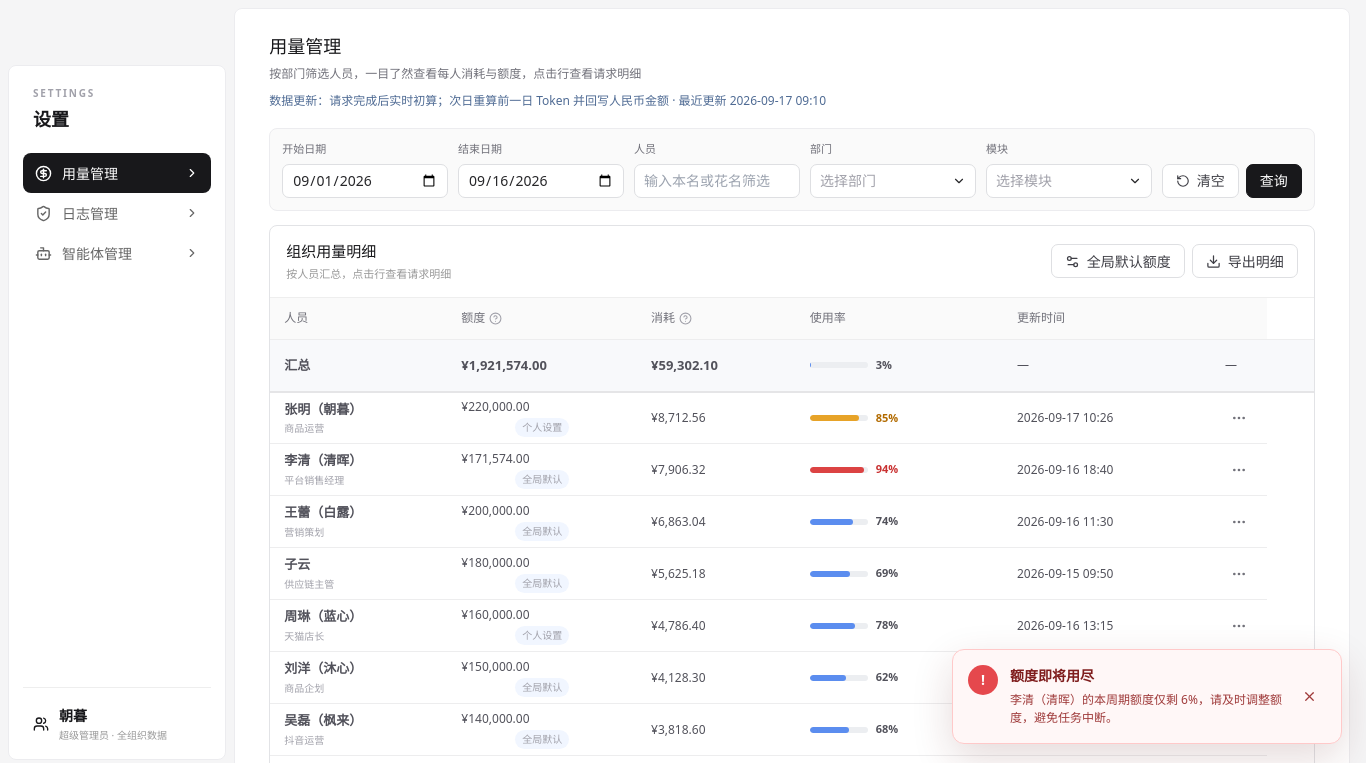
it: settings insights existing behavior contract › exports organization sessions with existing column order and format
This screenshot has width=1366, height=763.
What coordinates should you click on to do the following:
click the button with aria-label "导出用量明细"
I would click on:
 (1245, 261)
Its box is [1192,244,1298,278].
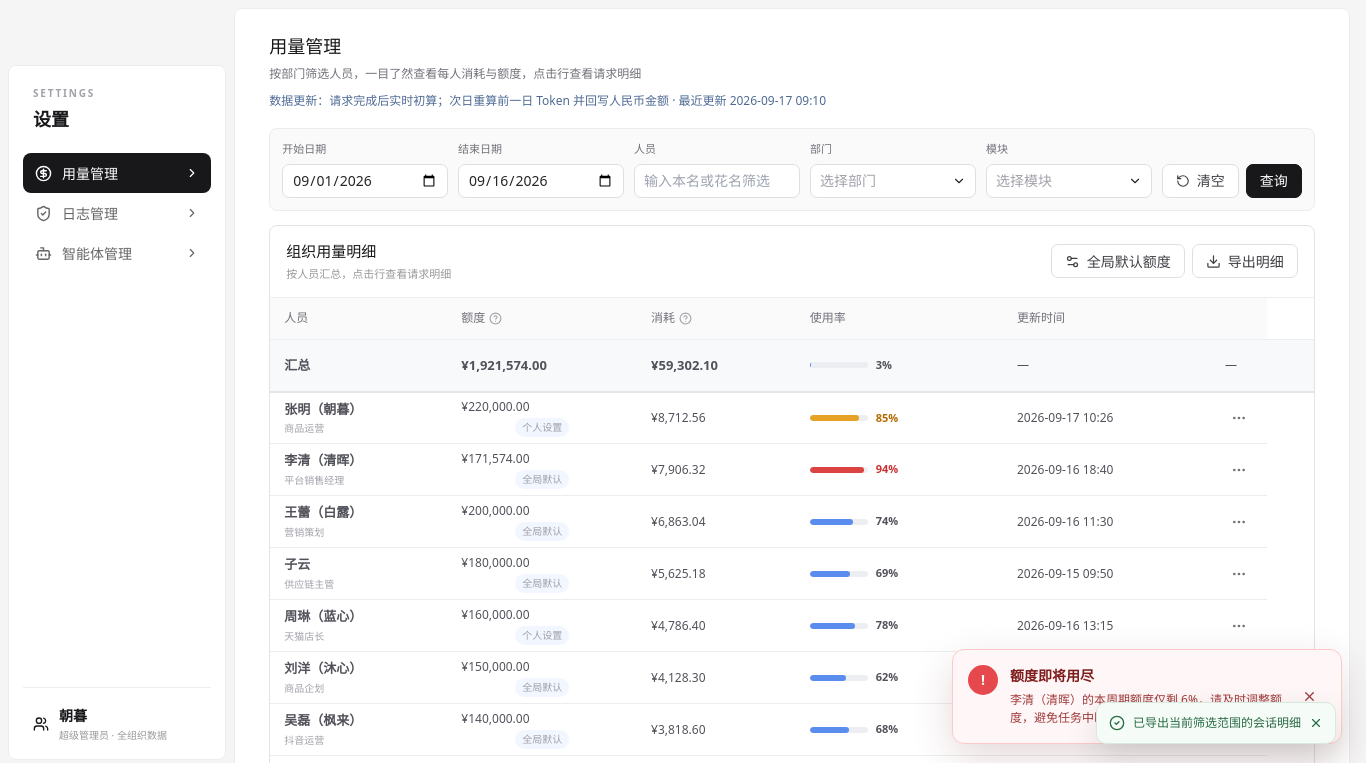
Result: the message "已导出当前筛选范围的会话明细" is shown at [1096,702,1336,744]
